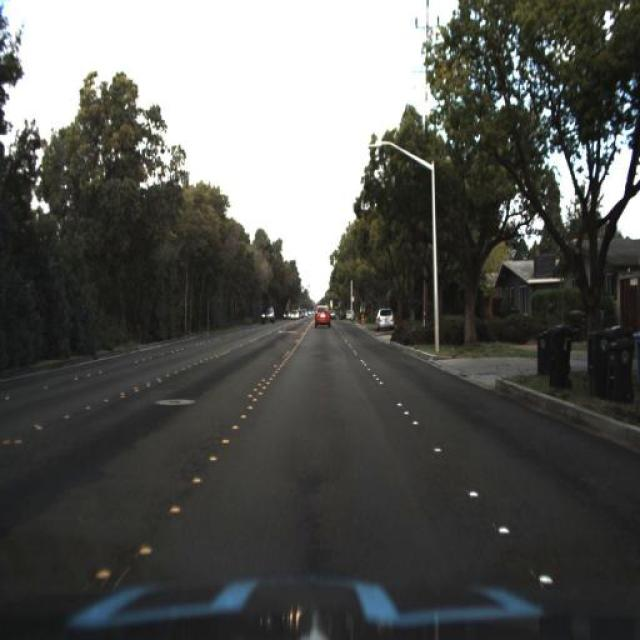car: (310, 300, 336, 336), (373, 304, 397, 338)
